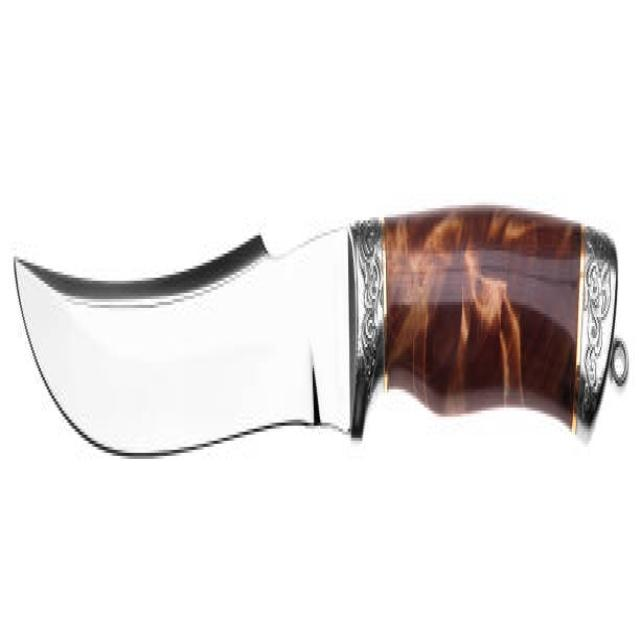knife: (11, 184, 632, 474)
